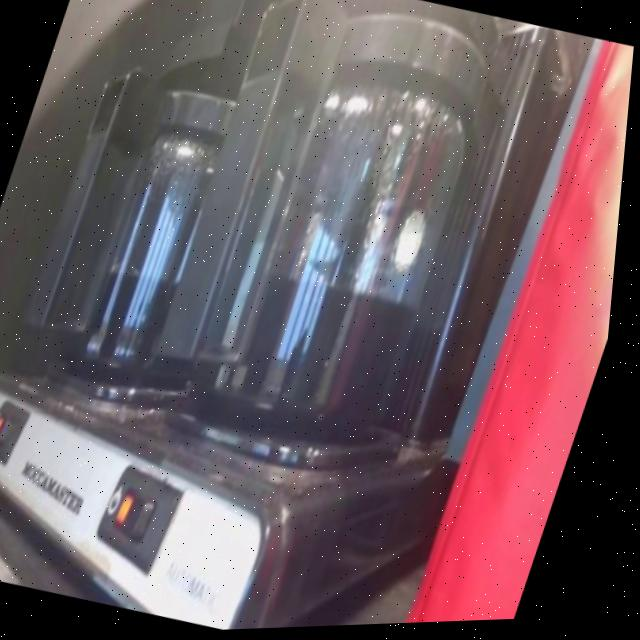coffee: (161, 0, 541, 480), (39, 55, 301, 406)
